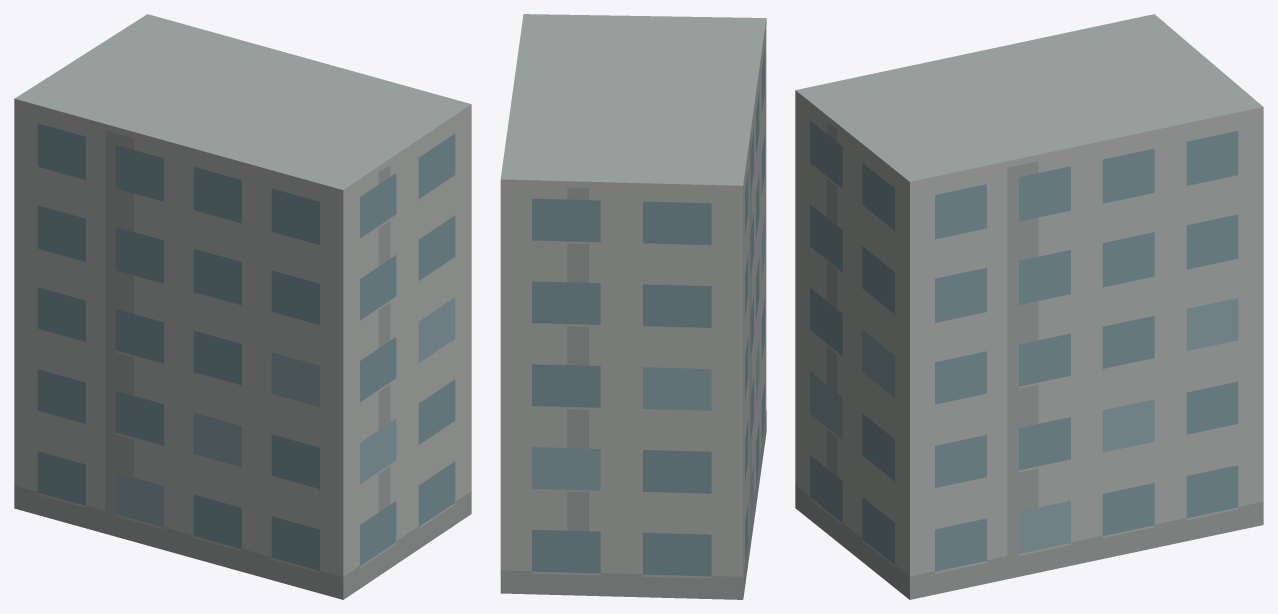
The model's file is survey-upis-32835532.glb.
3 views of the same model, side by side, from view 1: azimuth 30°, elevation 25°; view 2: azimuth 150°, elevation 25°; view 3: azimuth 270°, elevation 25° (orthographic). The views are drawn at different scales.
Visible parts, largest first — view 1: survey-upis-32835532.tmp; view 2: survey-upis-32835532.tmp; view 3: survey-upis-32835532.tmp.
Boxes of the visible parts, <box> form: survey-upis-32835532.tmp: <box>14,14,471,599</box>; survey-upis-32835532.tmp: <box>500,14,766,599</box>; survey-upis-32835532.tmp: <box>795,14,1263,599</box>.
Size of the model in its own units: 13.53 by 15.7 by 15.94.
